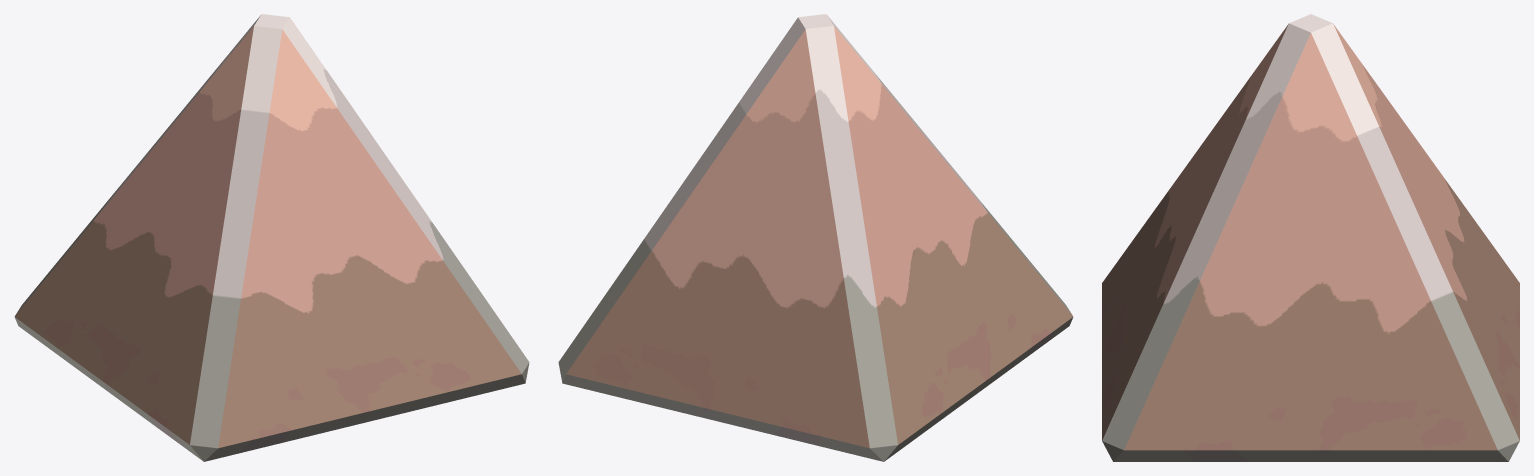
3 renders of one model, left to right at view 1: azimuth 30°, elevation 25°; view 2: azimuth 150°, elevation 25°; view 3: azimuth 270°, elevation 25°, orthographic. The views are drawn at different scales.
Parts seen in each view (by area): view 1: R4B_Pyramid_LOD1; view 2: R4B_Pyramid_LOD1; view 3: R4B_Pyramid_LOD1.
Boxes of the visible parts, bbox=[...] form: R4B_Pyramid_LOD1: bbox=[14, 14, 529, 461]; R4B_Pyramid_LOD1: bbox=[558, 14, 1073, 461]; R4B_Pyramid_LOD1: bbox=[1102, 14, 1519, 461].
Size of the model in its own units: 0.4985 by 0.4674 by 0.4985.
2 materials, 2 textured.
